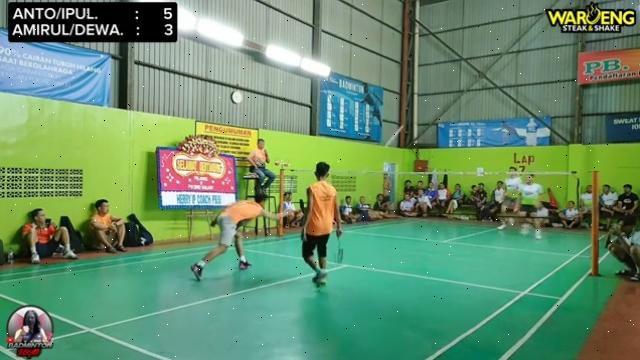Shuttlecock: (385, 121, 405, 147)
